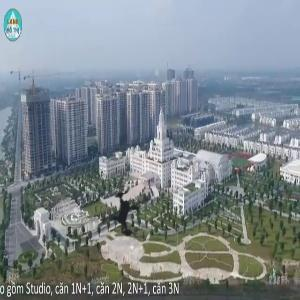drone: (87, 173, 166, 252)
